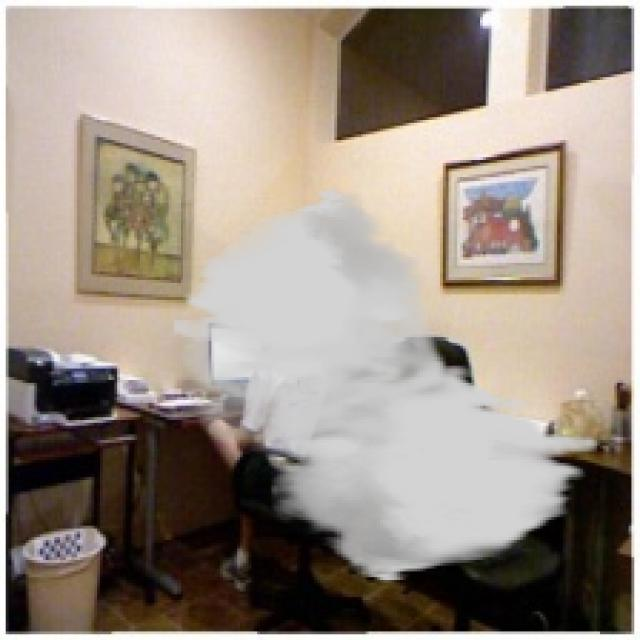smoke: (172, 186, 597, 583)
